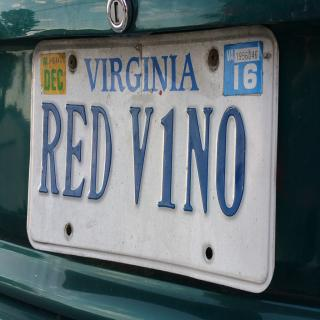license: (27, 25, 276, 296)
